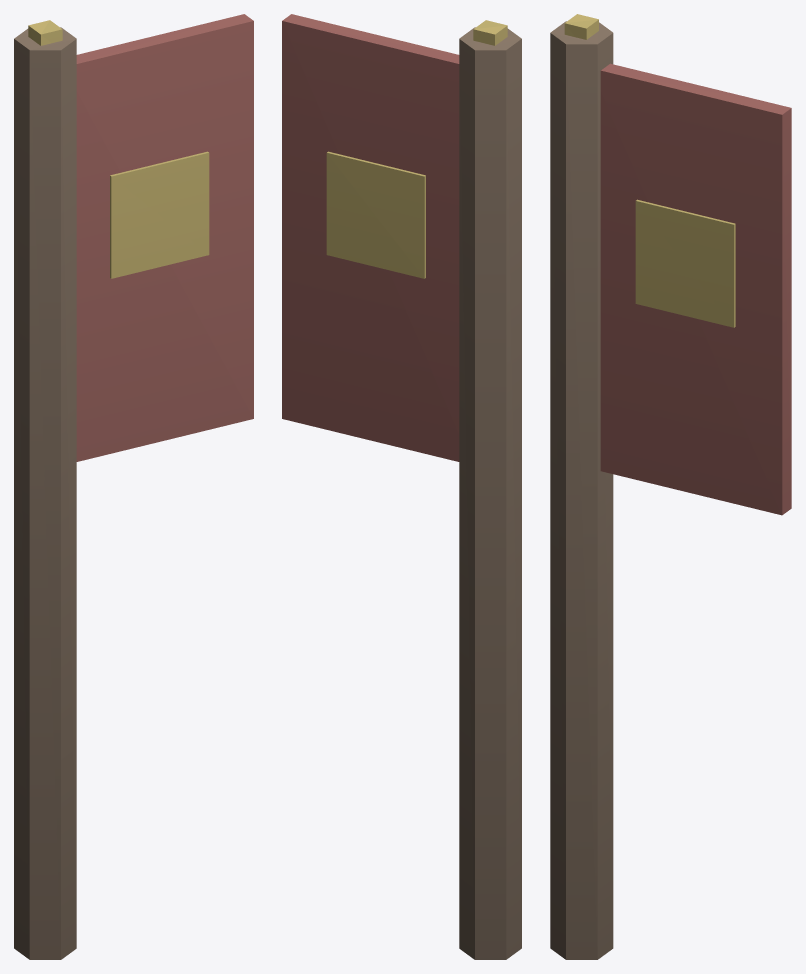
File: banner.glb
3 views of the same model, side by side, from view 1: azimuth 30°, elevation 25°; view 2: azimuth 150°, elevation 25°; view 3: azimuth 330°, elevation 25° (orthographic).
Parts seen in each view (by area): view 1: banner; view 2: banner; view 3: banner.
Part boxes in pixels (x1,y1,x2,y2): banner: (14,14,253,959); banner: (282,14,521,959); banner: (550,14,791,959).
Bounding box in the file's own units: 0.4183 × 1.62 × 0.1.
